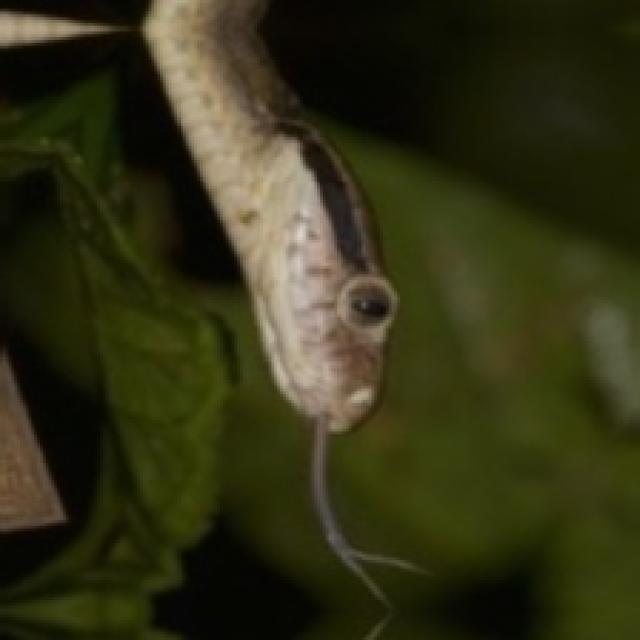dog-toothed cat snake: (143, 0, 417, 637)
